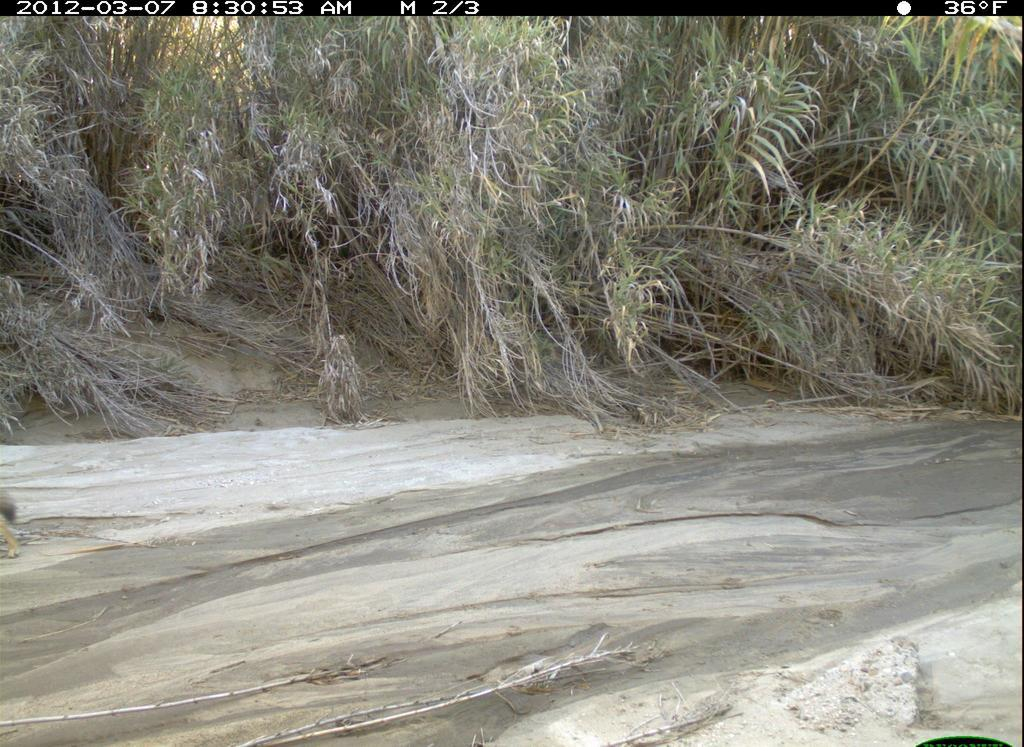coyote: (1, 464, 33, 568)
